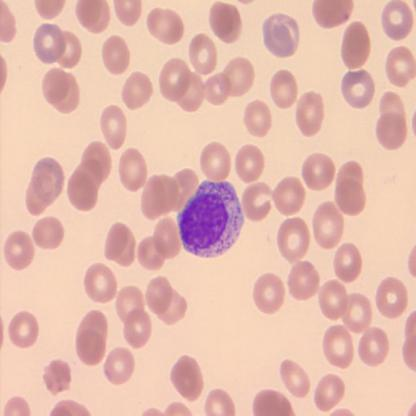Myelocyte: (180, 178, 245, 255)
